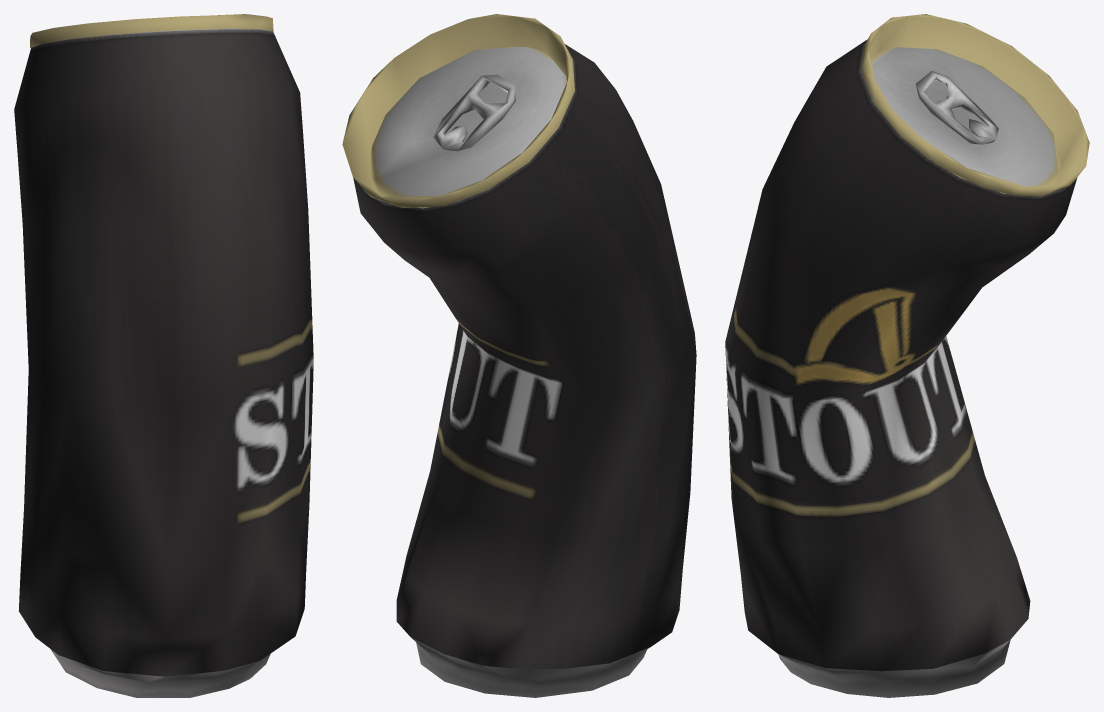
File: EmptyBeerCanTall.fbx
3 renders of one model, left to right at view 1: azimuth 30°, elevation 25°; view 2: azimuth 150°, elevation 25°; view 3: azimuth 270°, elevation 25°, orthographic. The views are drawn at different scales.
Parts seen in each view (by area): view 1: can.003; view 2: can.003; view 3: can.003.
Part boxes in pixels (x1=…): can.003: x1=14, y1=14, x2=313, y2=697; can.003: x1=342, y1=14, x2=696, y2=697; can.003: x1=725, y1=14, x2=1089, y2=697.
Bounding box in the file's own units: 0.1593 × 0.3513 × 0.1854.
